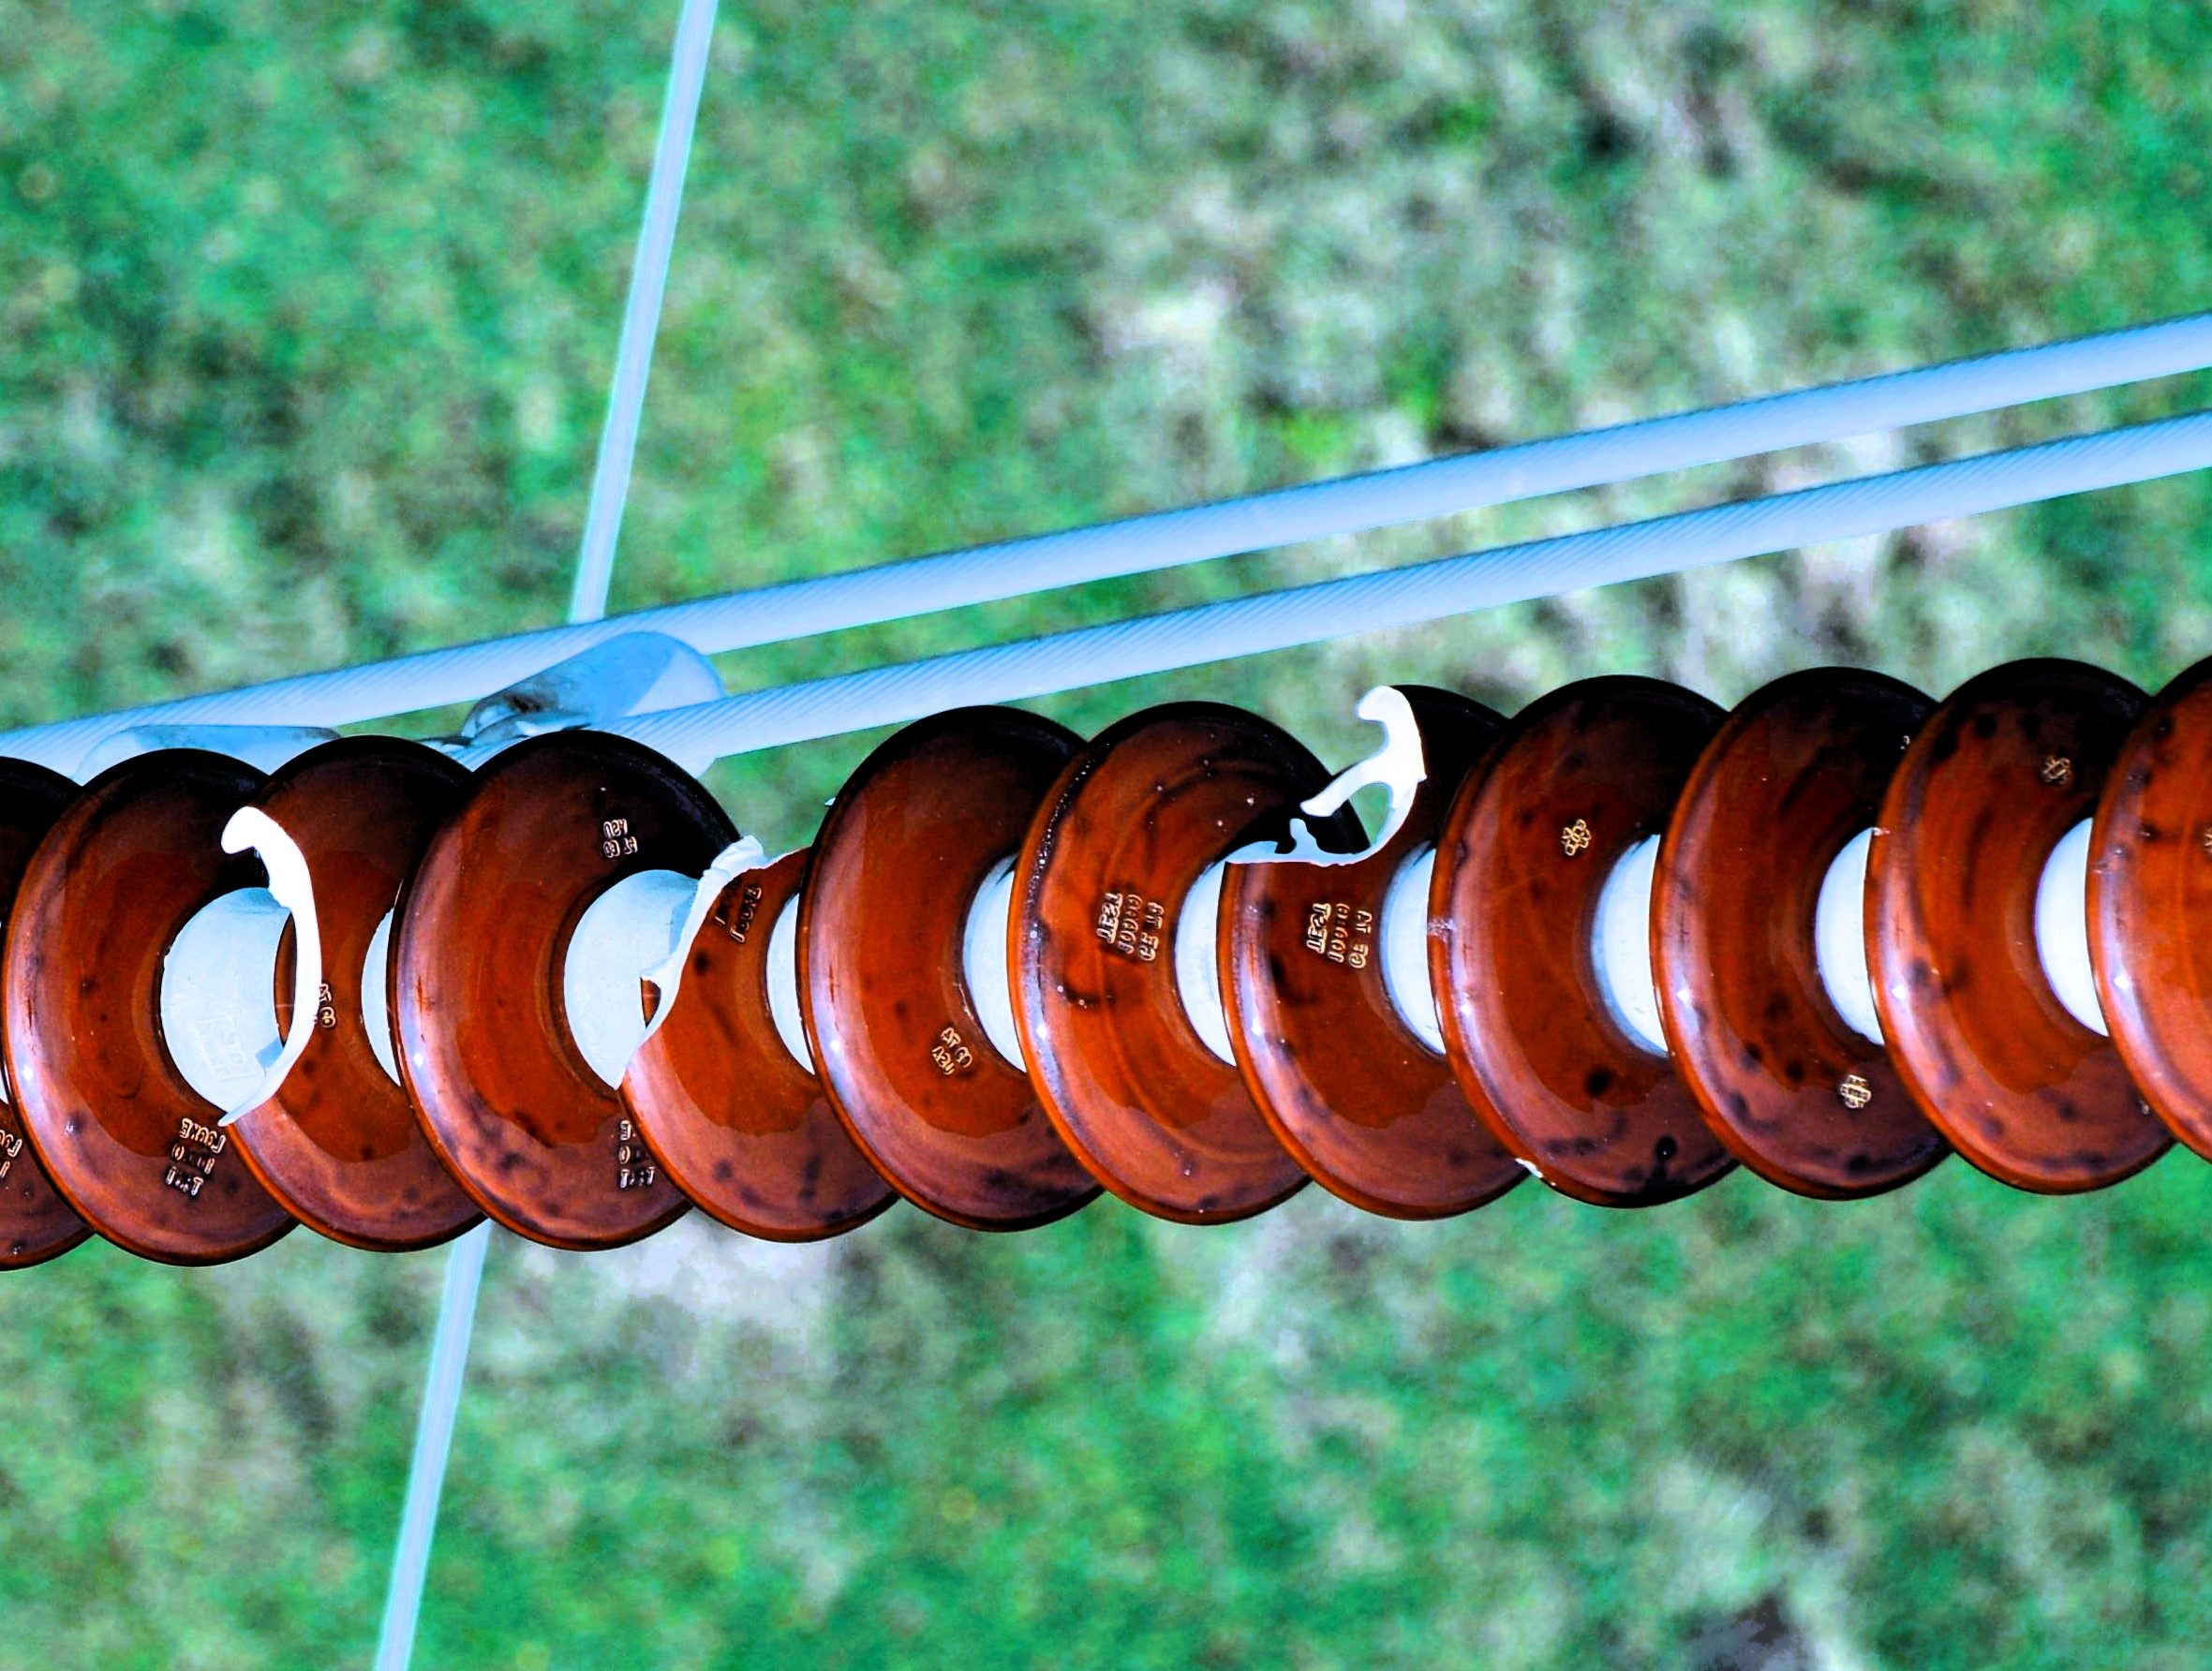insulator breakage: (1203, 646, 1534, 1234), (197, 728, 472, 1266), (618, 778, 901, 1250)
